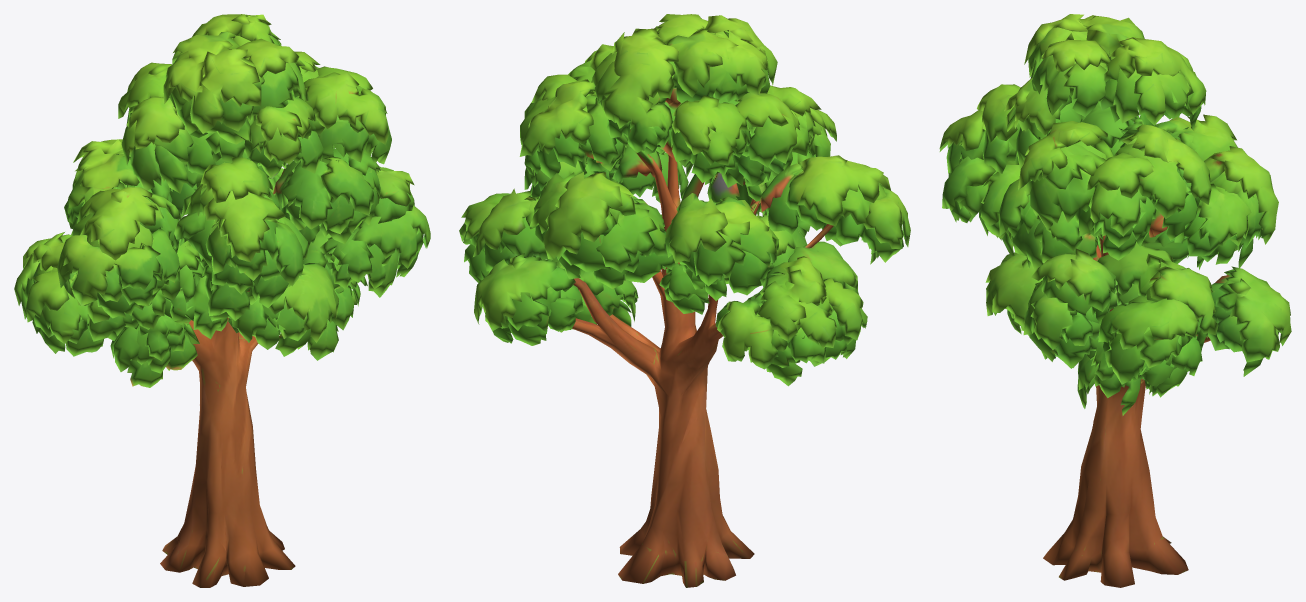
The model's file is Meshy_AI_Sunlit_Canopy_1024225856_texture.fbx.
3 views of the same model, side by side, from view 1: azimuth 30°, elevation 25°; view 2: azimuth 150°, elevation 25°; view 3: azimuth 270°, elevation 25° (orthographic).
Visible parts, largest first — view 1: Mesh_0; view 2: Mesh_0; view 3: Mesh_0.
Boxes of the visible parts, x1=… form: Mesh_0: x1=14, y1=14, x2=430, y2=587; Mesh_0: x1=459, y1=14, x2=910, y2=587; Mesh_0: x1=939, y1=14, x2=1291, y2=587.
Size of the model in its own units: 73.34 by 95.17 by 57.03.
Materials: 1 (1 with a texture image).
